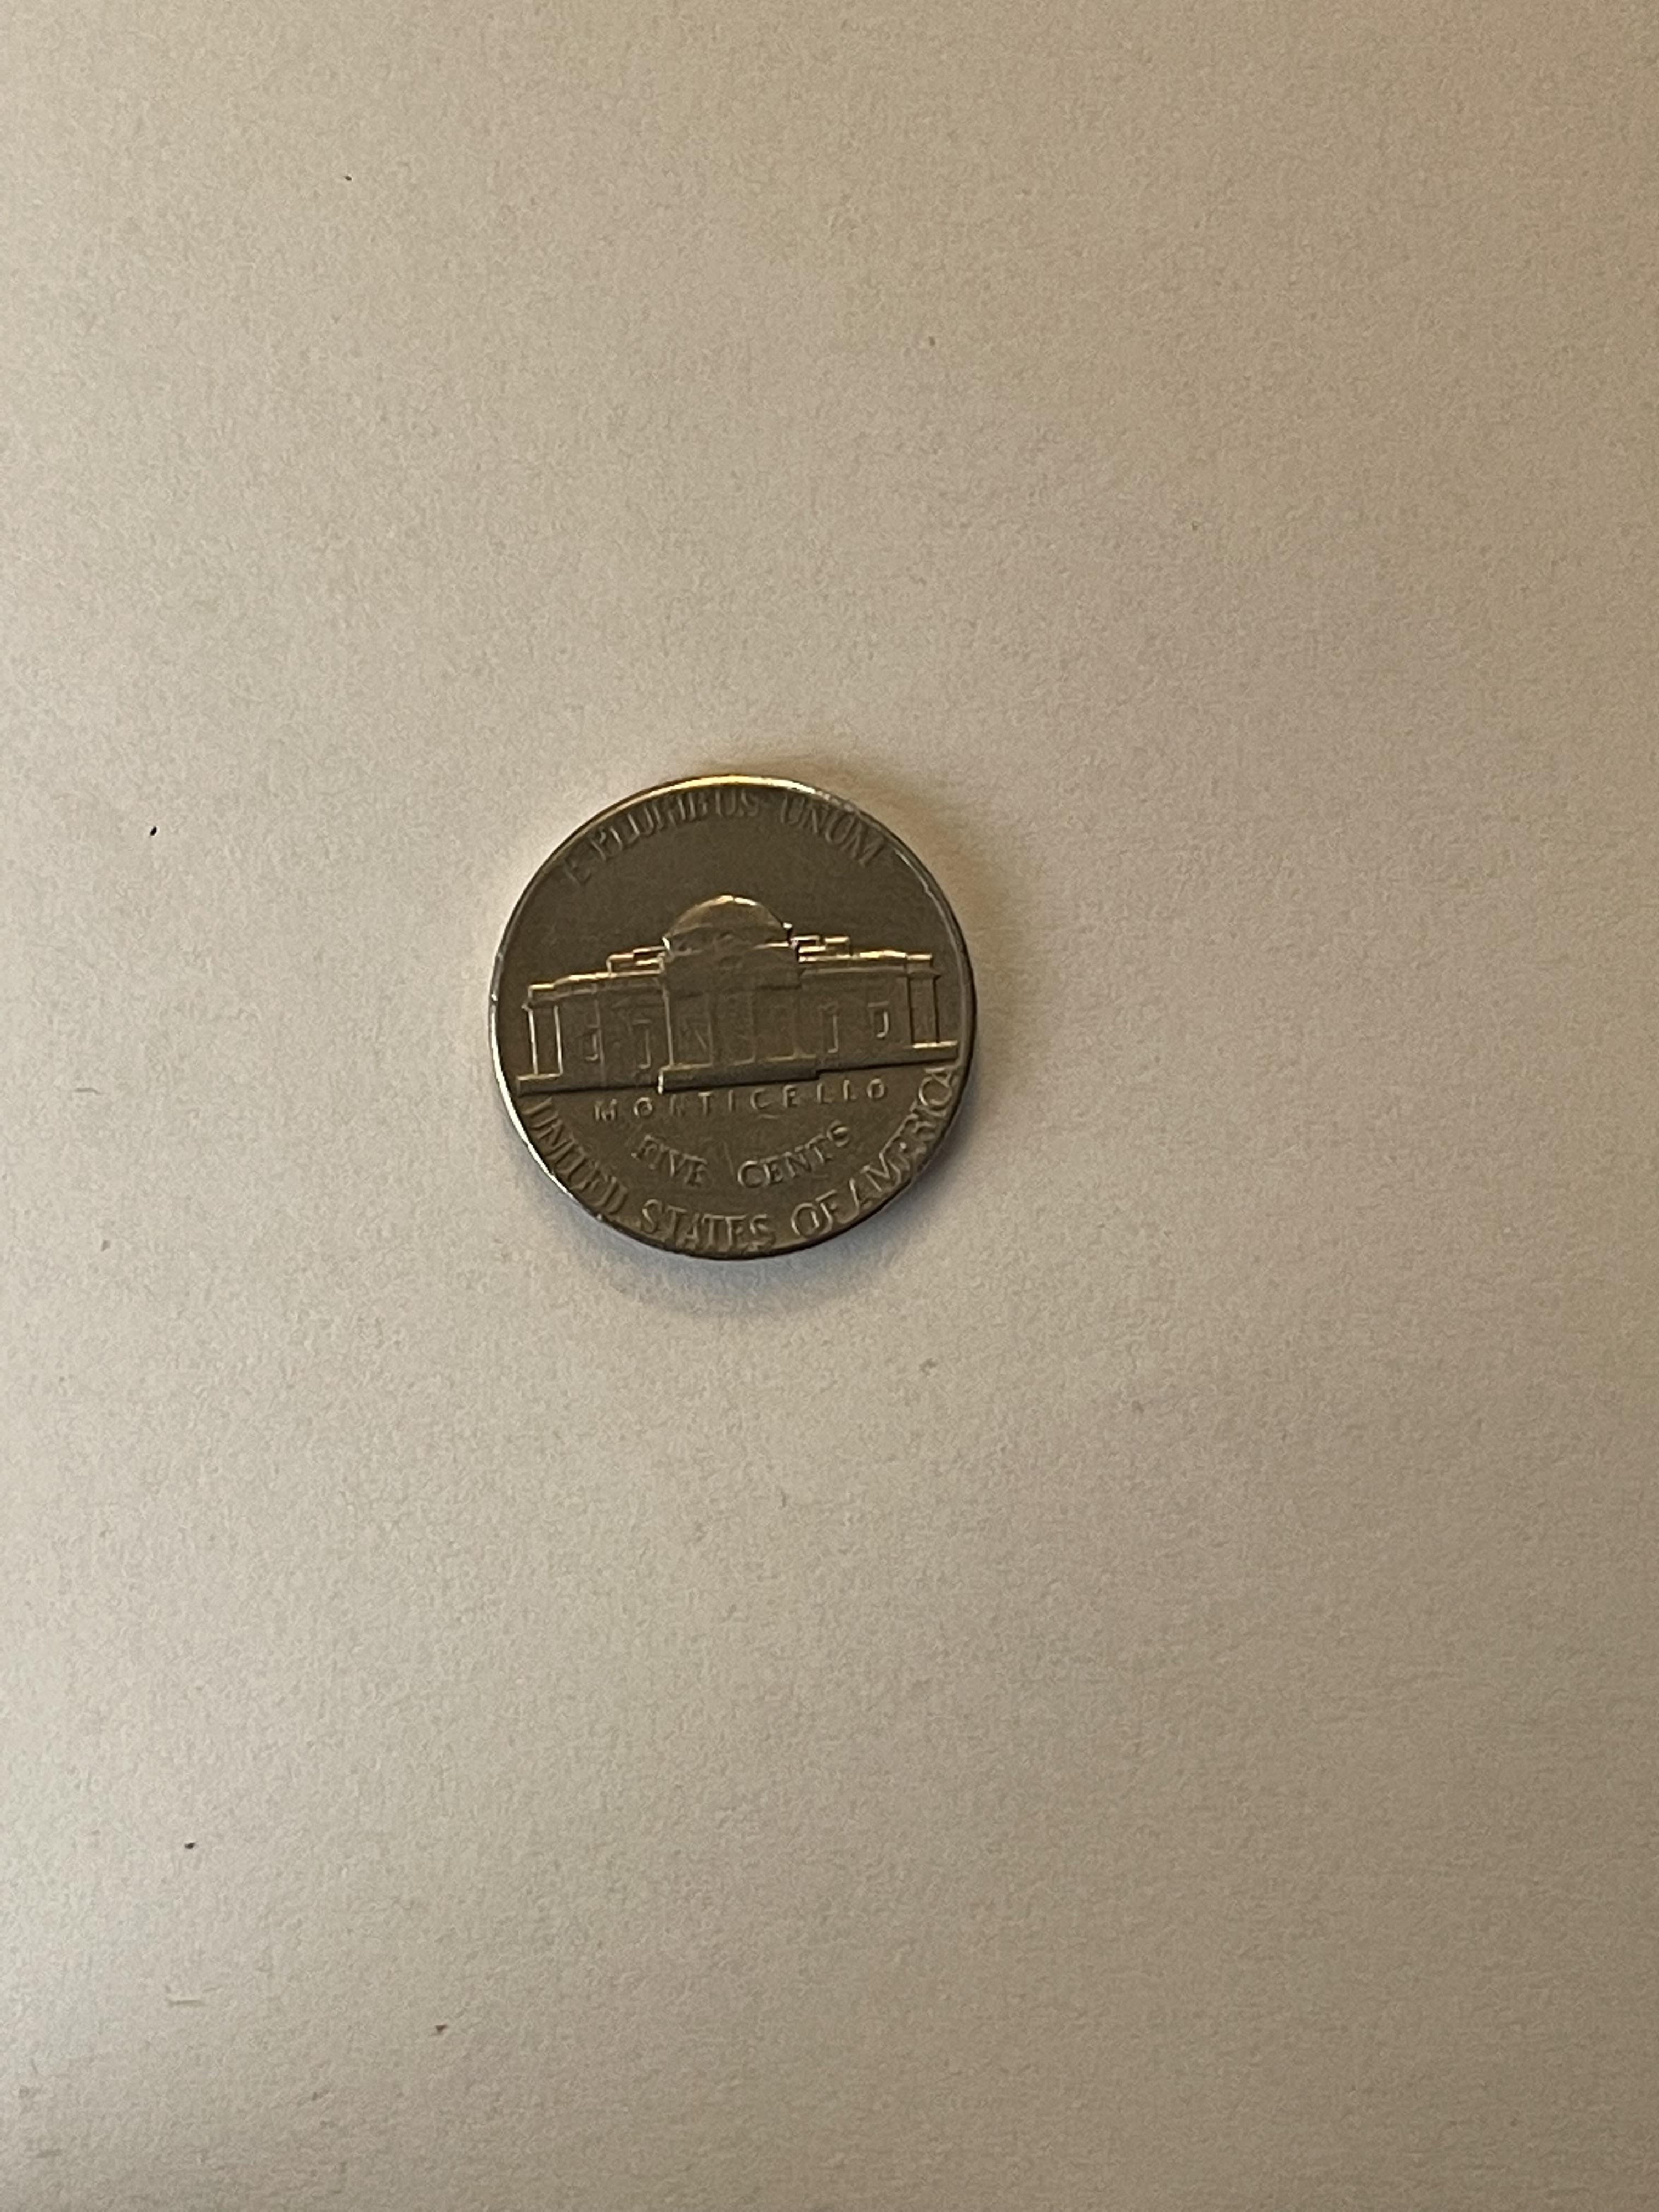Nickel: (497, 765, 985, 1259)
